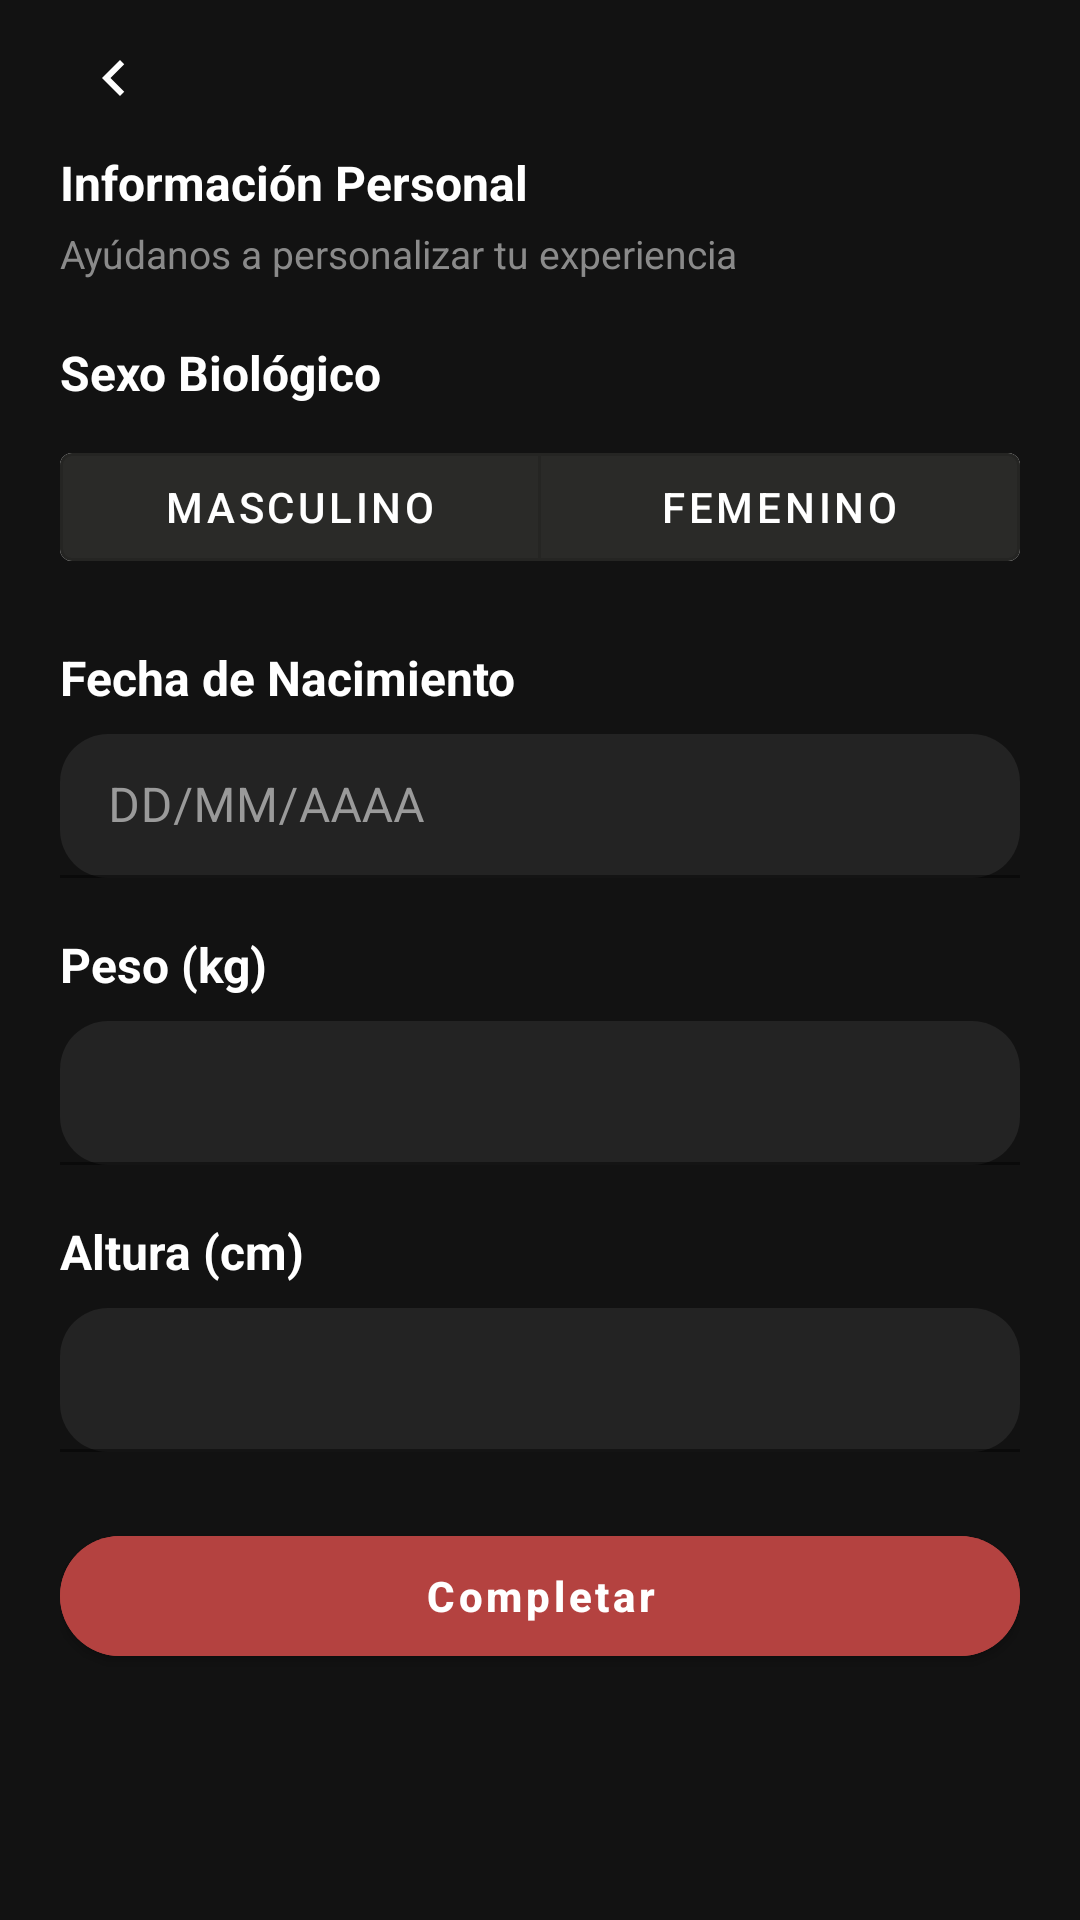

Where icons sit on this 1080*1920 app screen, as box(x1, y1, x2, y2):
back chevron: box(102, 60, 124, 96)
